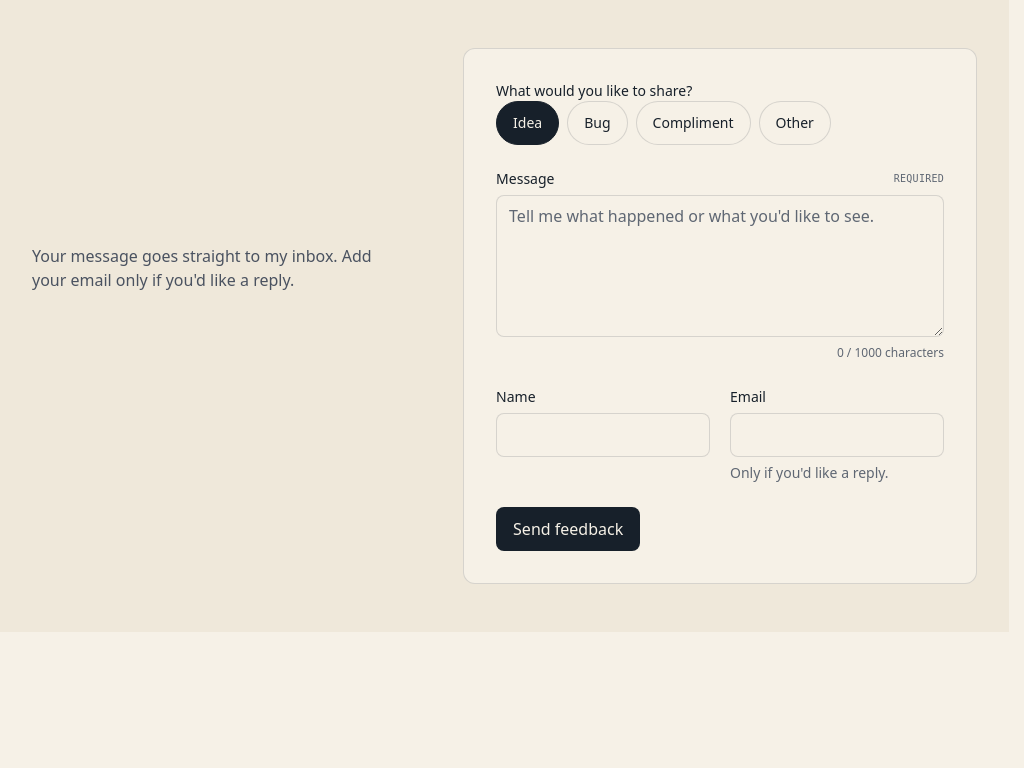
Test: Feedback › shows success and sends an empty honeypot with elapsed time
This screenshot has width=1024, height=768.
In the text box labelled "Message": (720, 266) [496,195,944,337], type "Please add more templates."
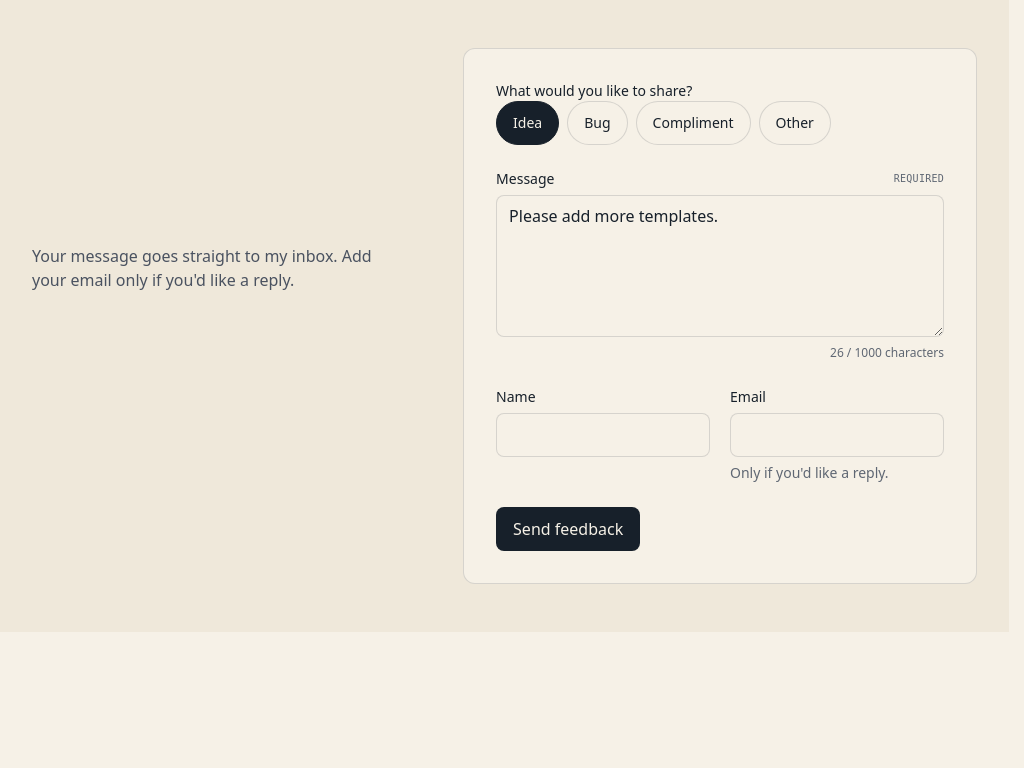
Click the button "Send feedback": (568, 529) [496,507,640,551]
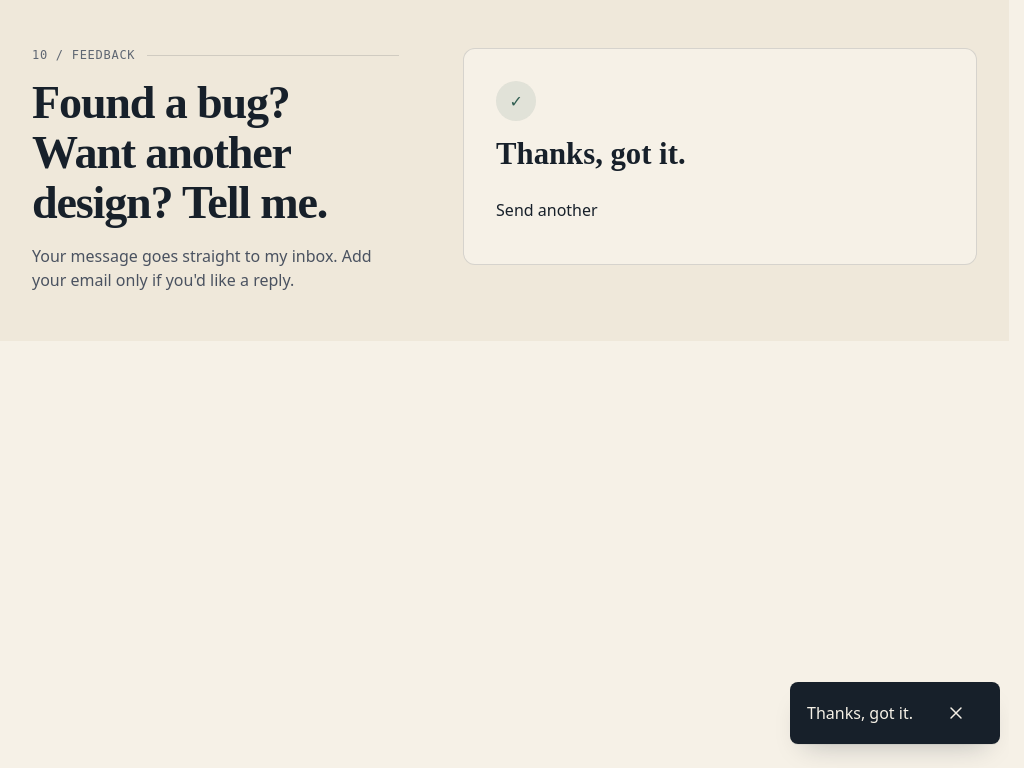
Expected: the number of headings "Thanks, got it." is 2, [496,137,686,172]; [807,701,913,725]
Expected: the button "Send another" is shown, [496,188,598,232]
